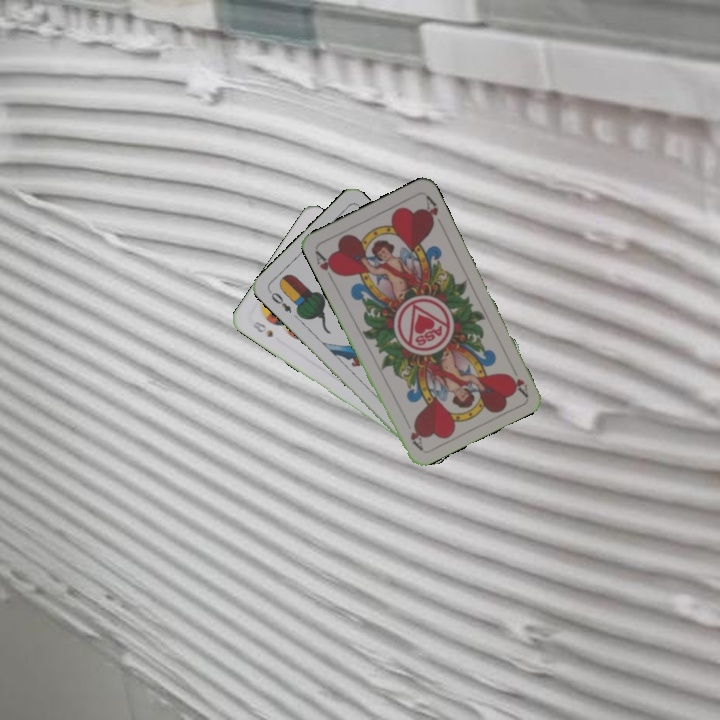EO: (265, 286, 294, 315)
HA: (311, 246, 340, 284), (504, 360, 530, 398)
S8: (249, 317, 276, 340)
